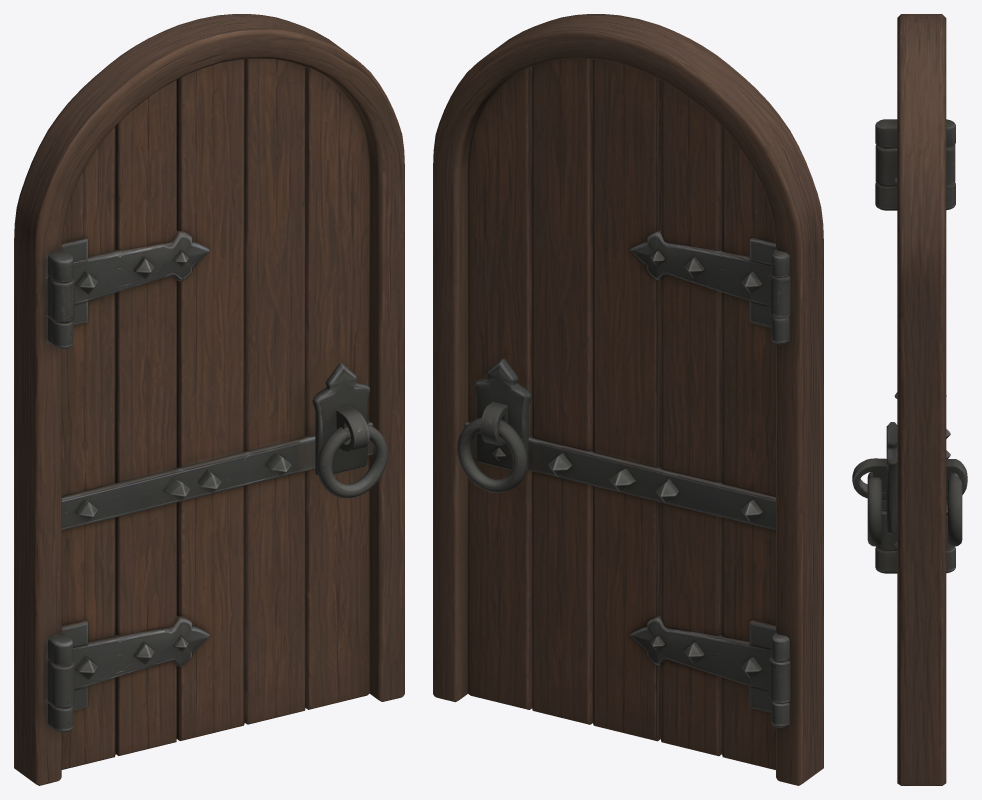
File: Door.glb
3 renders of one model, left to right at view 1: azimuth 30°, elevation 25°; view 2: azimuth 150°, elevation 25°; view 3: azimuth 270°, elevation 25°, orthographic. The views are drawn at different scales.
Visible parts, largest first — view 1: Door; view 2: Door; view 3: Door.
Part boxes in pixels (x1,y1,x2,y2): Door: (14,14,404,785); Door: (433,14,823,785); Door: (852,14,967,785).
Bounding box in the file's own units: 0.4476 × 0.8188 × 0.1276.
Materials: 1 (1 with a texture image).
